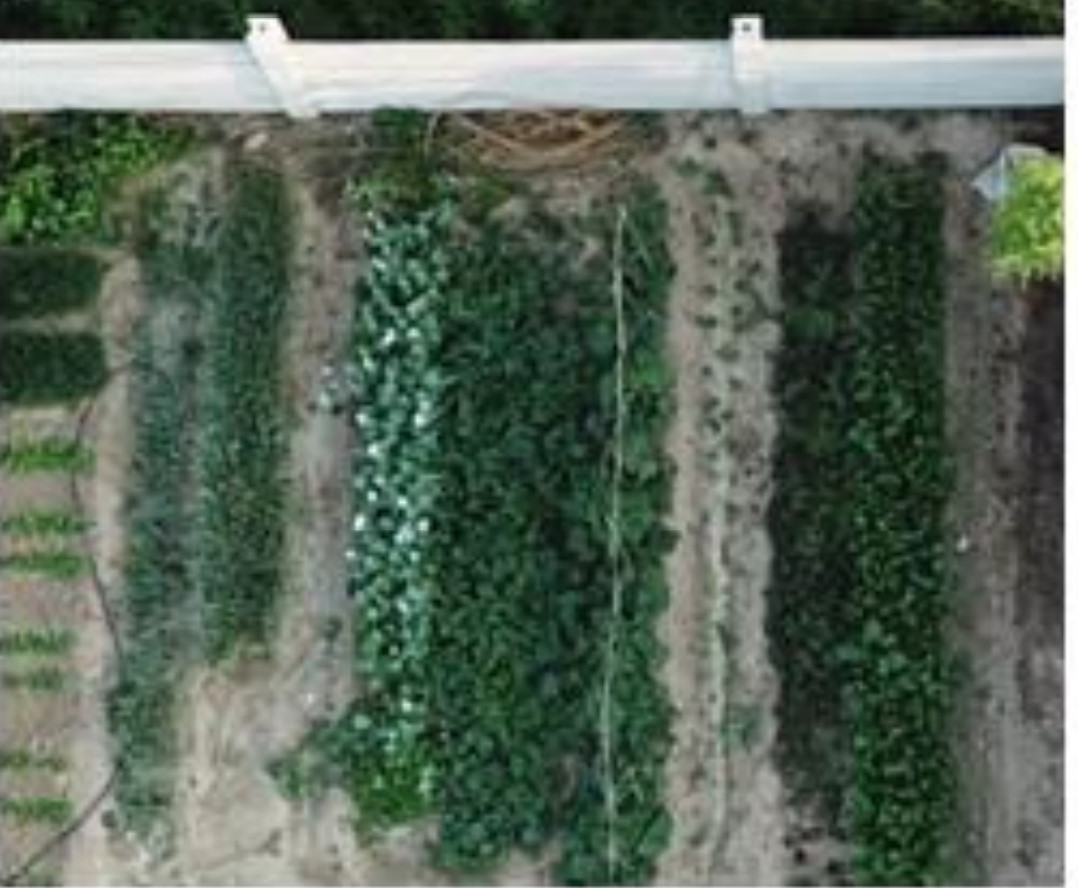Poppy: (335, 201, 440, 743)
